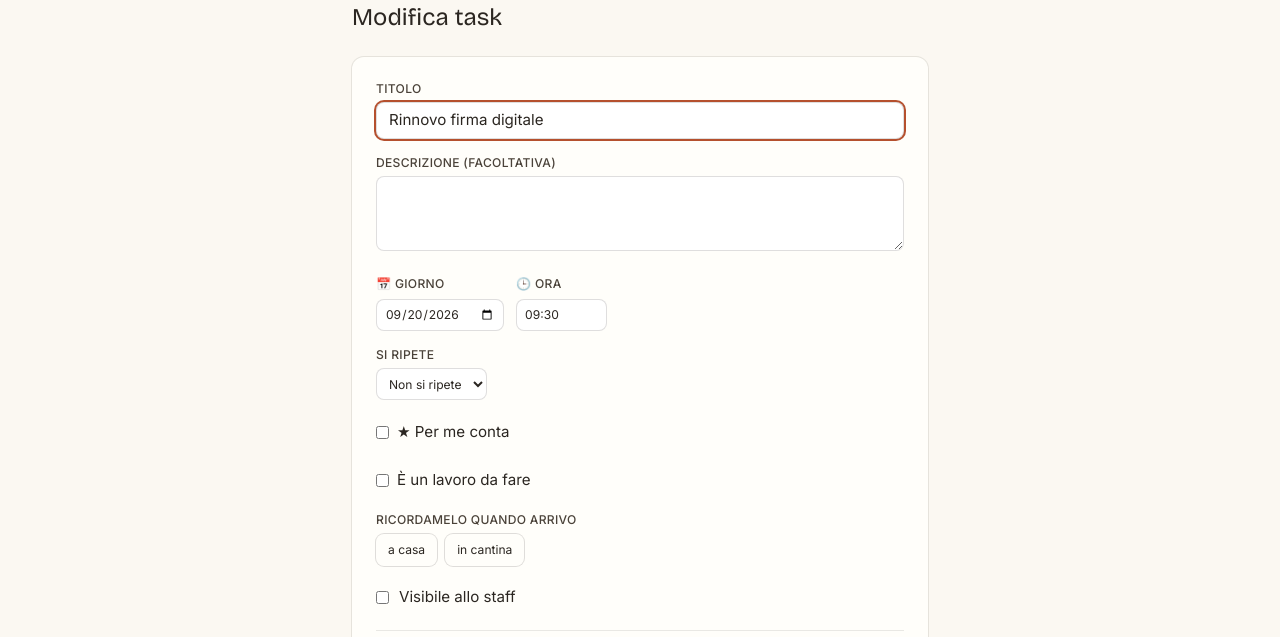
it: 🔴 il riquadro si apre, e prima non c'è › il campo mostra l'ora scritta e apre il pannello
The width and height of the screenshot is (1280, 637).
Click the button "09:30" at (561, 315), box [516,299,607,331]
(page scrolled)
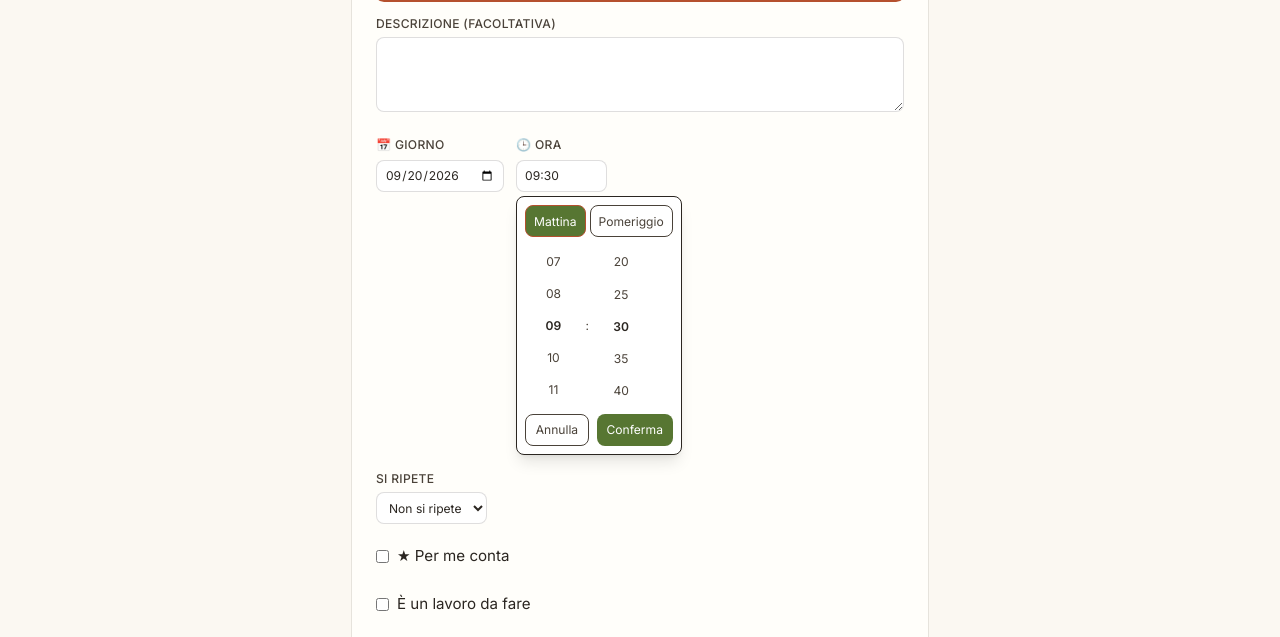
Now the button "Annulla" is shown, box [525,414,589,446]
Now the button "Conferma" is shown, box [597,414,673,446]
